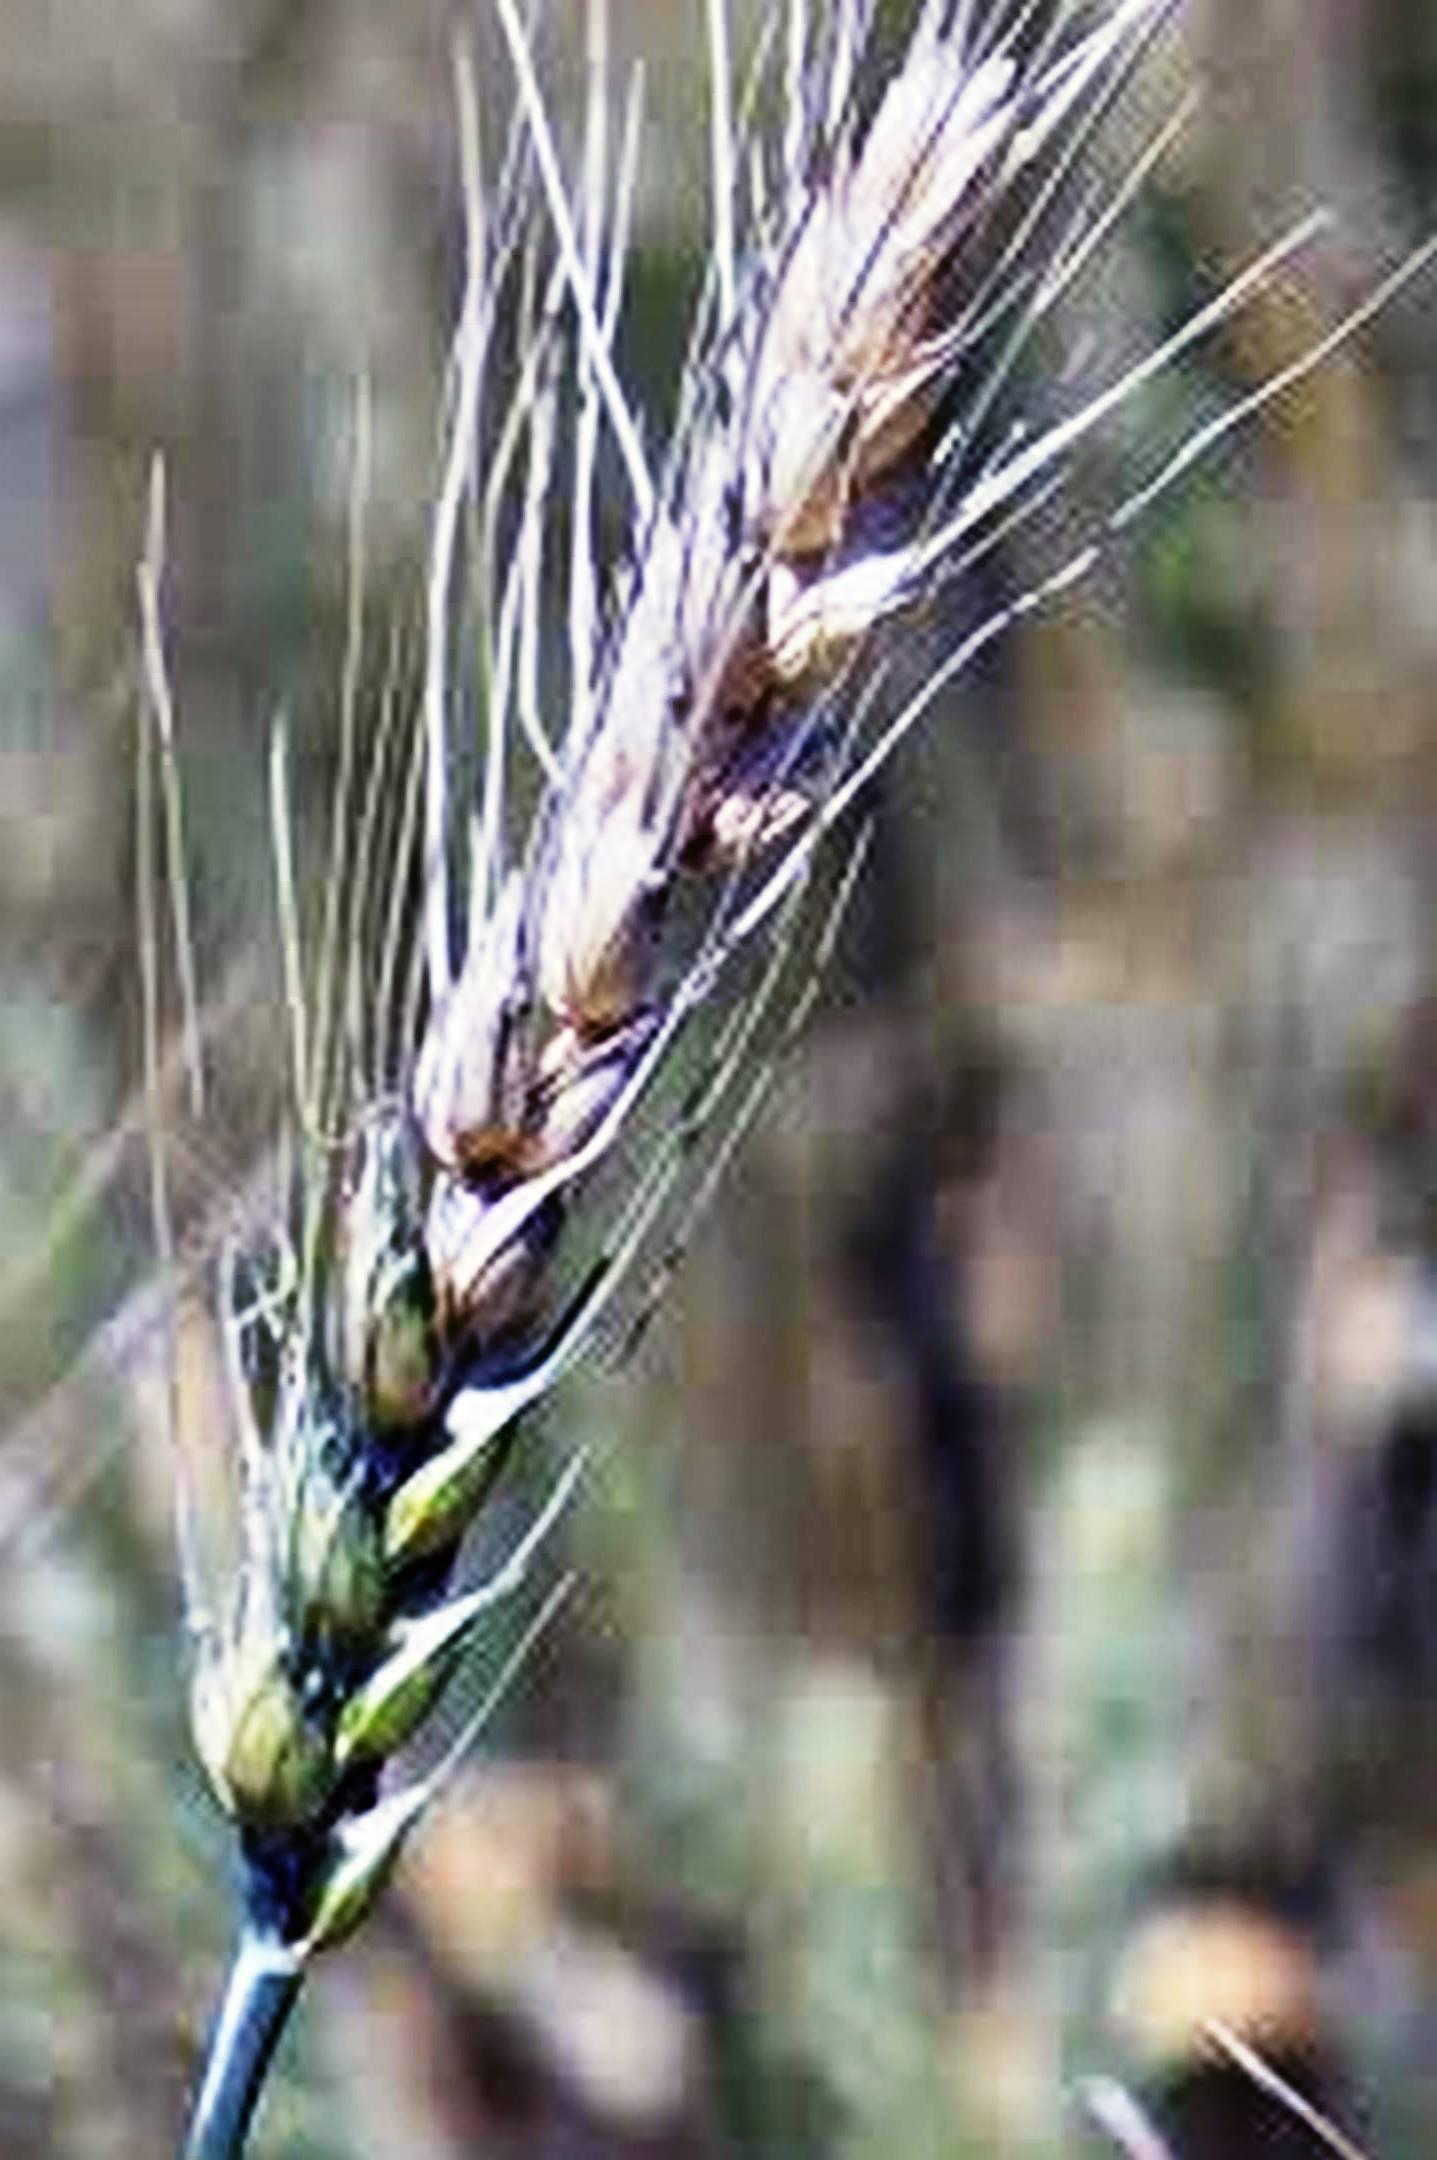Wheat scab: (197, 104, 1171, 1916)
